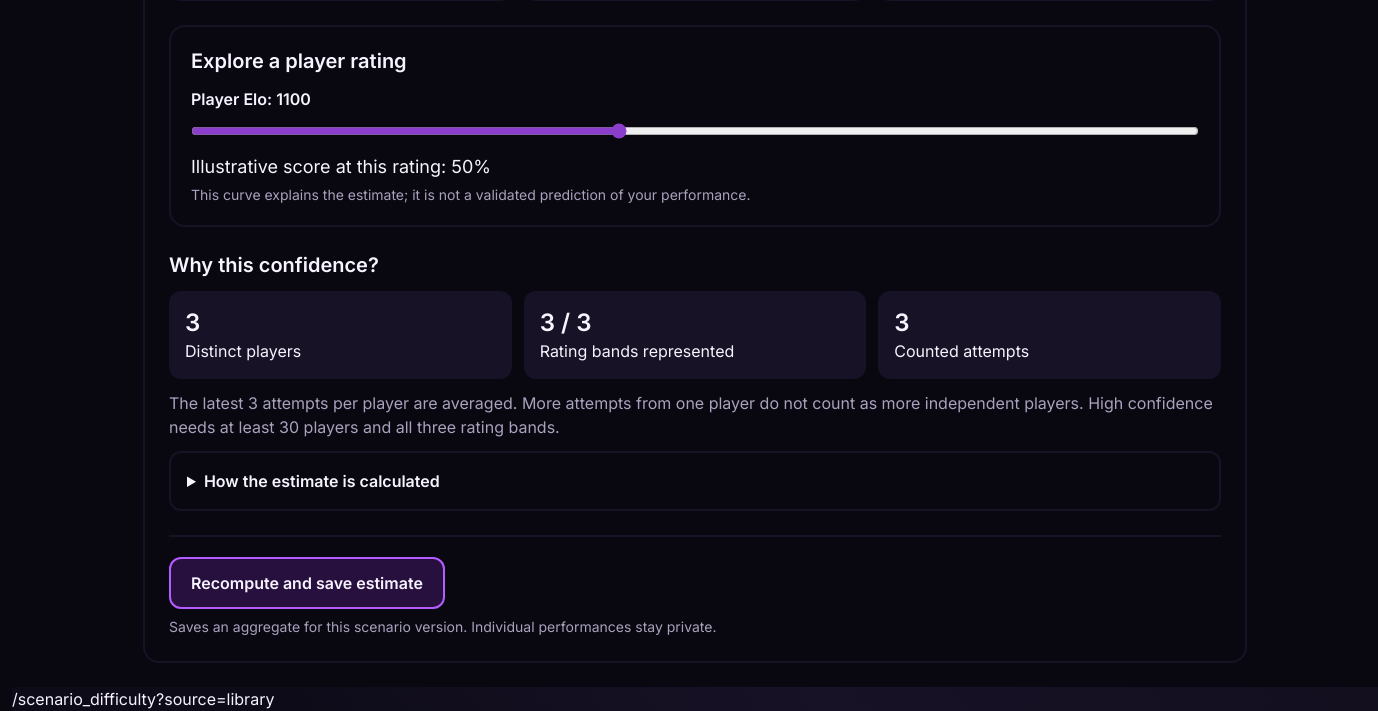
Test: scenario difficulty explorer › loads actual evidence and only saves a server-computed estimate for an author
The image size is (1378, 711).
(page scrolled)
Step 1. Click the button "Recompute and save estimate" → (307, 583), box [169,557,445,609]
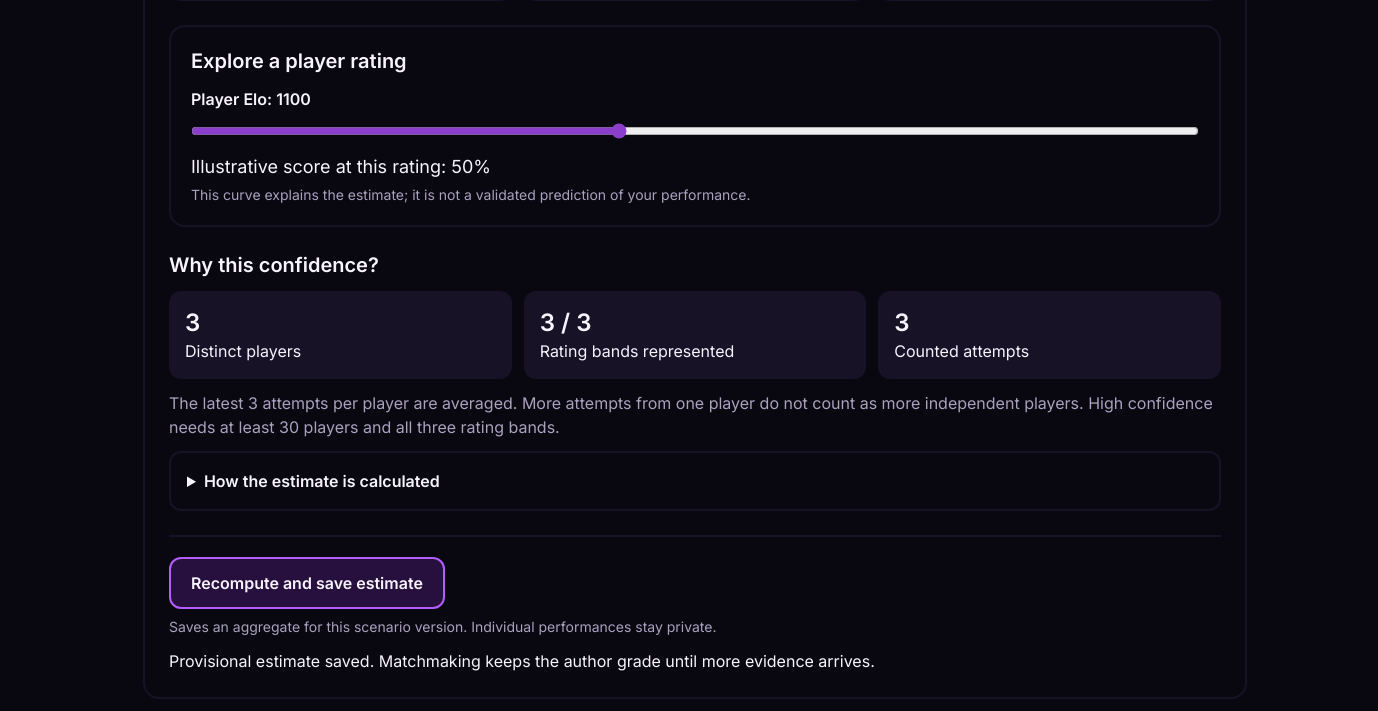
Expected: the text "Provisional estimate saved" is shown, [169,651,875,671]
